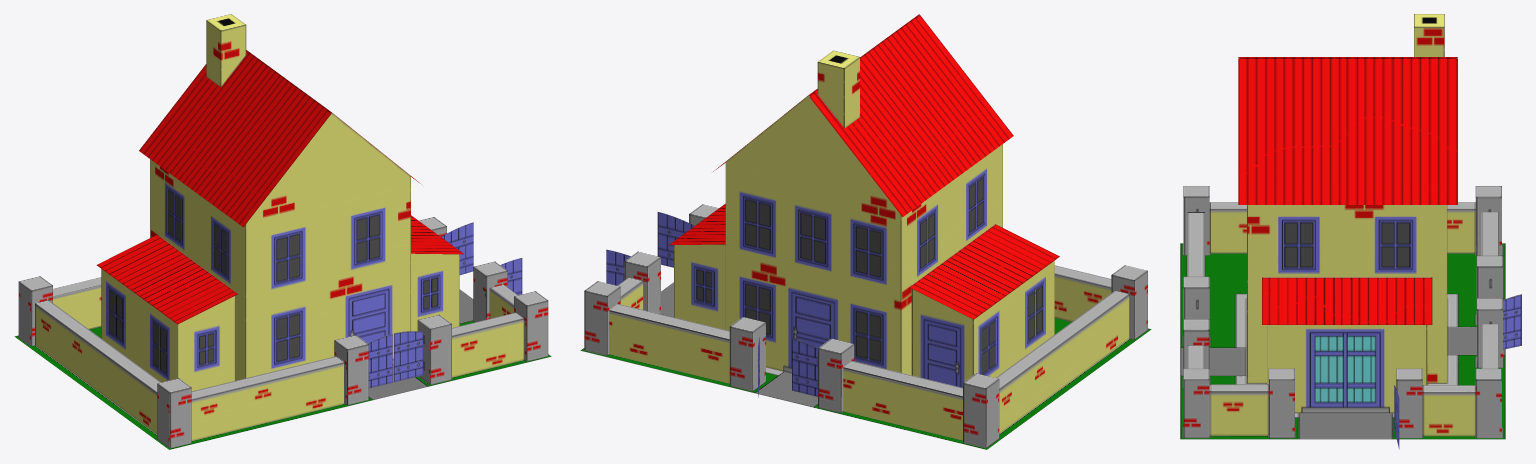
3 views of the same model, side by side, from view 1: azimuth 30°, elevation 25°; view 2: azimuth 150°, elevation 25°; view 3: azimuth 270°, elevation 25° (orthographic). The views are drawn at different scales.
Parts seen in each view (by area): view 1: yella_haus_0003, yella_haus_0005, yella_haus_0004, yella_haus_0002 (×5), yella_haus_0006, yella_haus_0007, yella_haus_0001_1; view 2: yella_haus_0002 (×4), yella_haus_0005, yella_haus_0007, yella_haus_0006, yella_haus_0004, yella_haus_0001_1, yella_haus_0003; view 3: yella_haus_0005, yella_haus_0003, yella_haus_0004, yella_haus_0001_1, yella_haus_0006, yella_haus_0007, yella_haus_0002 (×2).
Part boxes in pixels (x1,y1,x2,y2): yella_haus_0003: (245,113,517,377); yella_haus_0005: (35,50,420,434); yella_haus_0004: (18,217,548,447); yella_haus_0002 (×5): (150,14,522,388); yella_haus_0006: (101,253,459,391); yella_haus_0007: (53,215,463,329); yella_haus_0001_1: (14,289,551,449); yella_haus_0002 (×4): (606,50,1002,396); yella_haus_0005: (713,14,1129,433); yella_haus_0007: (609,203,1059,440); yella_haus_0006: (674,244,1054,387); yella_haus_0004: (584,204,1147,447); yella_haus_0001_1: (580,282,1151,449); yella_haus_0003: (617,277,643,309); yella_haus_0005: (1209,57,1475,253); yella_haus_0003: (1209,205,1475,436); yella_haus_0004: (1183,186,1502,438); yella_haus_0001_1: (1180,243,1505,439); yella_haus_0006: (1267,325,1427,413); yella_haus_0007: (1262,212,1498,368); yella_haus_0002 (×2): (1414,14,1521,349).
Size of the model in its own units: 6842 by 4762 by 4718.
10 materials, 9 textured.
